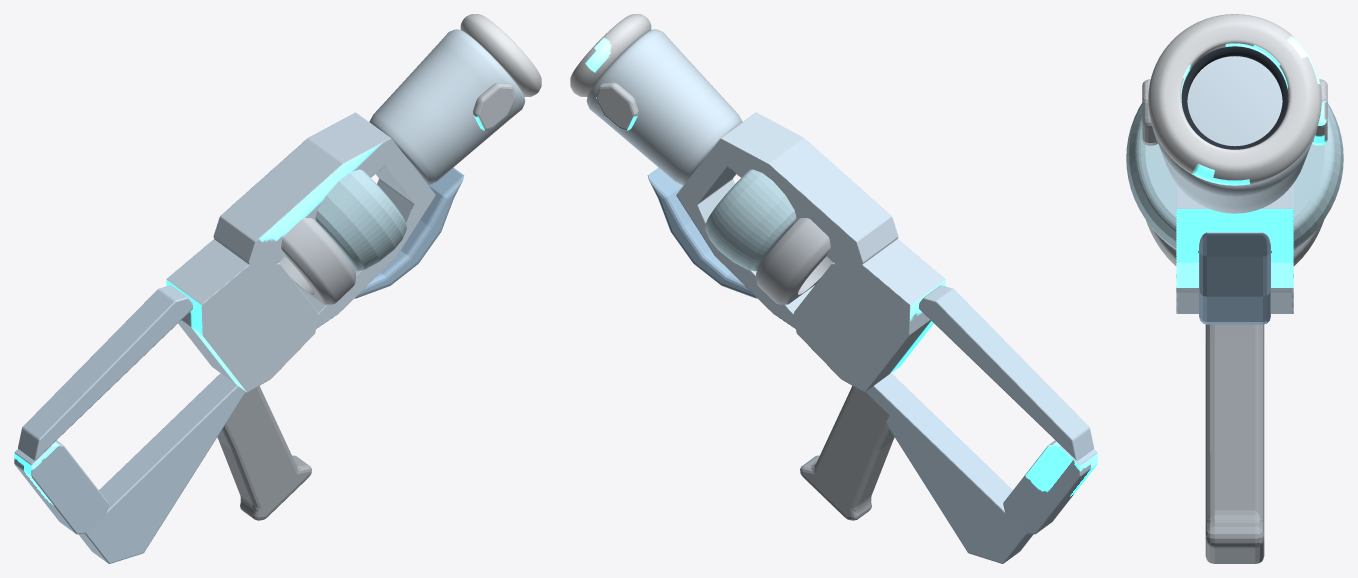
3 views of the same model, side by side, from view 1: azimuth 30°, elevation 25°; view 2: azimuth 150°, elevation 25°; view 3: azimuth 270°, elevation 25° (orthographic). The views are drawn at different scales.
Parts seen in each view (by area): view 1: item.receiver__LOD0, item.barrel_shroud__LOD0, item.stock_lower_strut__LOD0, item.stock_upper_strut__LOD0, item.grip__LOD0, item.energy_chamber__LOD0, item.stock_butt__LOD0, item.rear_chamber_collar__LOD0, item.lower_brace__LOD0, item.muzzle_collar__LOD0, item.muzzle_lug_near__LOD0; view 2: item.receiver__LOD0, item.barrel_shroud__LOD0, item.stock_lower_strut__LOD0, item.stock_upper_strut__LOD0, item.grip__LOD0, item.energy_chamber__LOD0, item.stock_butt__LOD0, item.rear_chamber_collar__LOD0, item.lower_brace__LOD0, item.muzzle_collar__LOD0, item.muzzle_lug_far__LOD0; view 3: item.muzzle_collar__LOD0, item.grip__LOD0, item.barrel_shroud__LOD0, item.energy_chamber__LOD0, item.receiver__LOD0, item.lower_brace__LOD0, item.muzzle_bore_sleeve__LOD0, item.rear_chamber_collar__LOD0, item.muzzle_lug_far__LOD0, item.muzzle_lug_near__LOD0.
Boxes of the visible parts, left/top/right/bottom form: item.receiver__LOD0: left=166, top=112, right=435, bottom=392; item.barrel_shroud__LOD0: left=369, top=29, right=525, bottom=185; item.stock_lower_strut__LOD0: left=78, top=373, right=245, bottom=563; item.stock_upper_strut__LOD0: left=18, top=285, right=192, bottom=460; item.grip__LOD0: left=217, top=386, right=311, bottom=520; item.energy_chamber__LOD0: left=315, top=169, right=406, bottom=271; item.stock_butt__LOD0: left=14, top=440, right=108, bottom=534; item.rear_chamber_collar__LOD0: left=278, top=218, right=355, bottom=304; item.lower_brace__LOD0: left=354, top=167, right=464, bottom=298; item.muzzle_collar__LOD0: left=460, top=14, right=541, bottom=96; item.muzzle_lug_near__LOD0: left=473, top=82, right=515, bottom=130; item.receiver__LOD0: left=676, top=112, right=945, bottom=392; item.barrel_shroud__LOD0: left=586, top=29, right=742, bottom=185; item.stock_lower_strut__LOD0: left=866, top=373, right=1033, bottom=563; item.stock_upper_strut__LOD0: left=919, top=285, right=1093, bottom=460; item.grip__LOD0: left=800, top=386, right=894, bottom=520; item.energy_chamber__LOD0: left=705, top=169, right=796, bottom=271; item.stock_butt__LOD0: left=1003, top=440, right=1097, bottom=534; item.rear_chamber_collar__LOD0: left=756, top=218, right=833, bottom=304; item.lower_brace__LOD0: left=647, top=167, right=757, bottom=298; item.muzzle_collar__LOD0: left=570, top=14, right=651, bottom=96; item.muzzle_lug_far__LOD0: left=596, top=82, right=638, bottom=130; item.muzzle_collar__LOD0: left=1148, top=14, right=1321, bottom=185; item.grip__LOD0: left=1205, top=324, right=1264, bottom=563; item.barrel_shroud__LOD0: left=1152, top=56, right=1317, bottom=213; item.energy_chamber__LOD0: left=1126, top=103, right=1343, bottom=252; item.receiver__LOD0: left=1176, top=183, right=1293, bottom=313; item.lower_brace__LOD0: left=1199, top=232, right=1270, bottom=324; item.muzzle_bore_sleeve__LOD0: left=1181, top=46, right=1288, bottom=149; item.rear_chamber_collar__LOD0: left=1146, top=220, right=1323, bottom=265; item.muzzle_lug_far__LOD0: left=1312, top=79, right=1327, bottom=145; item.muzzle_lug_near__LOD0: left=1142, top=79, right=1157, bottom=145.
Size of the model in its own units: 10.3 by 8.62 by 2.3.
